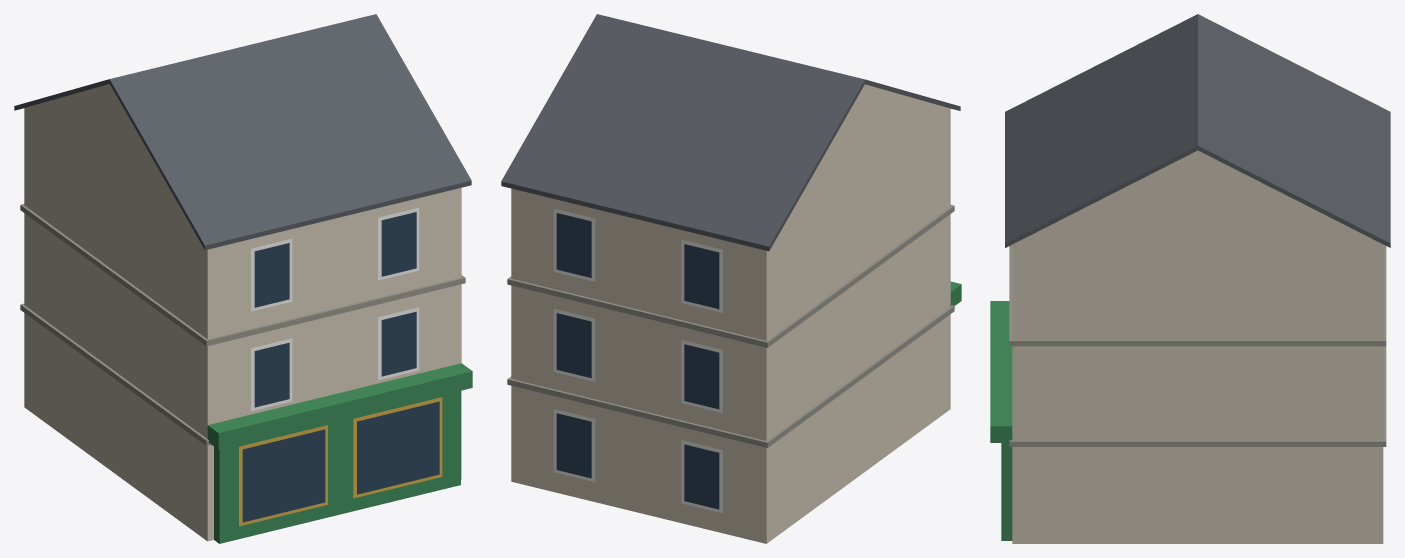
The model's file is librairie.glb.
The picture shows the model from 3 angles, left to right: view 1: azimuth 30°, elevation 25°; view 2: azimuth 150°, elevation 25°; view 3: azimuth 270°, elevation 25°; orthographic projection.
Parts seen in each view (by area): view 1: librairie; view 2: librairie; view 3: librairie.
Boxes of the visible parts, x1,y1,x2,y2 form: librairie: (14, 14, 472, 543); librairie: (501, 14, 961, 543); librairie: (990, 14, 1390, 543).
Bounding box in the file's own units: 8.4 × 11.94 × 10.8.
Materials: 1 (1 with a texture image).
